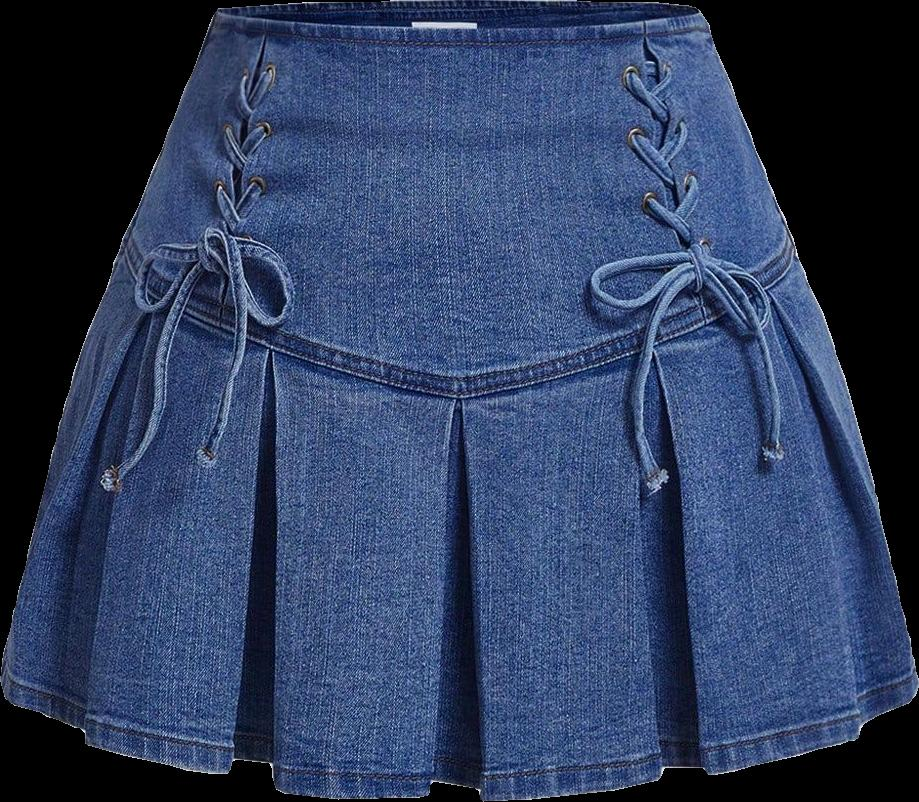Hemline: (0, 668, 918, 801)
Waistline: (121, 238, 798, 405), (214, 6, 701, 35)
